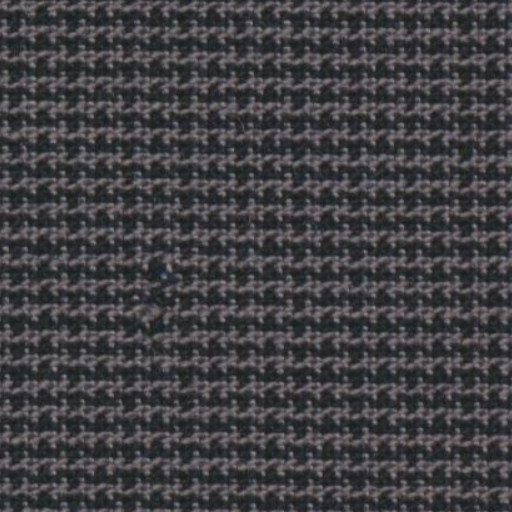PoDong: (117, 228, 214, 352)
